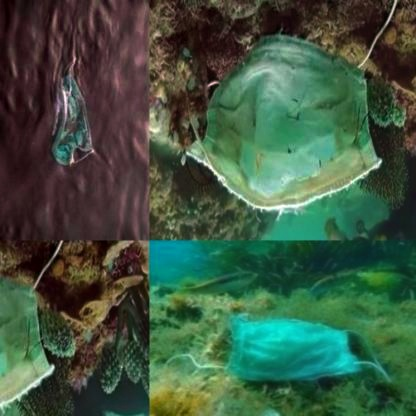Mask: (180, 36, 382, 213), (160, 317, 397, 385), (0, 262, 57, 415), (48, 53, 97, 166)
